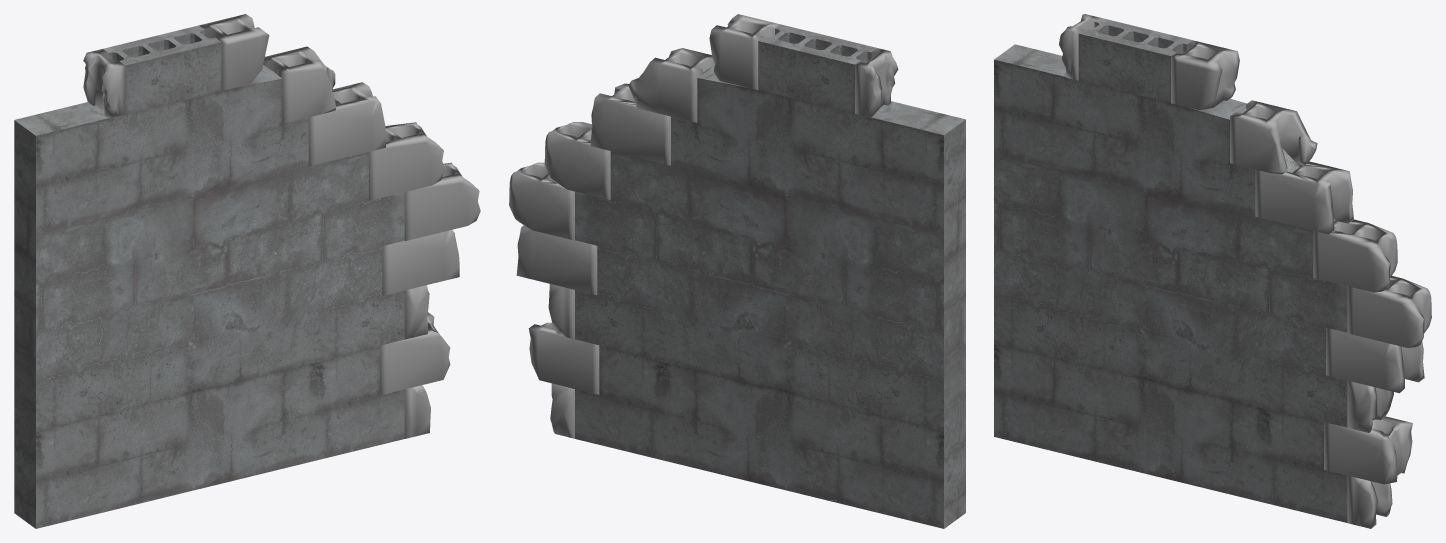
The model's file is wall_Full_01_Broken_mid_03.fbx.
The picture shows the model from 3 angles, left to right: view 1: azimuth 30°, elevation 25°; view 2: azimuth 150°, elevation 25°; view 3: azimuth 330°, elevation 25°; orthographic projection. The views are drawn at different scales.
Parts seen in each view (by area): view 1: wall_Full_01_Broken_mid_03; view 2: wall_Full_01_Broken_mid_03; view 3: wall_Full_01_Broken_mid_03.
Boxes of the visible parts, <box> form: wall_Full_01_Broken_mid_03: <box>14,14,480,528</box>; wall_Full_01_Broken_mid_03: <box>509,14,965,528</box>; wall_Full_01_Broken_mid_03: <box>994,14,1431,528</box>.
Bounding box in the file's own units: 237 × 225 × 20.94.
Materials: 2 (1 with a texture image).
